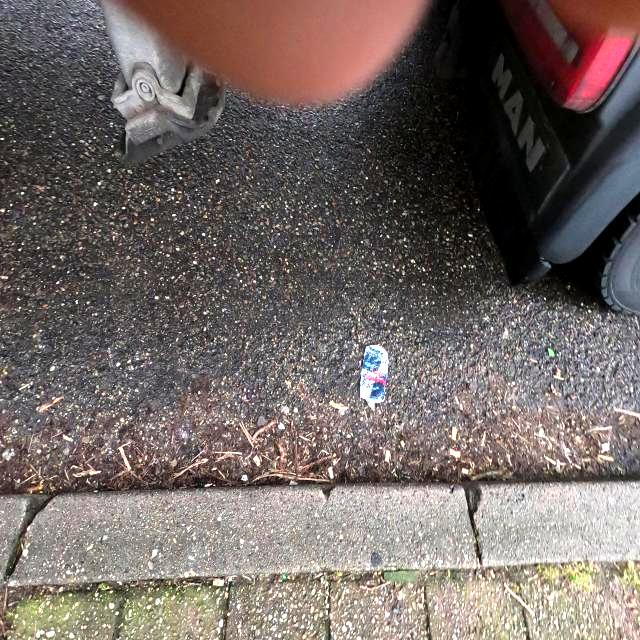Metal: (358, 342, 390, 404)
